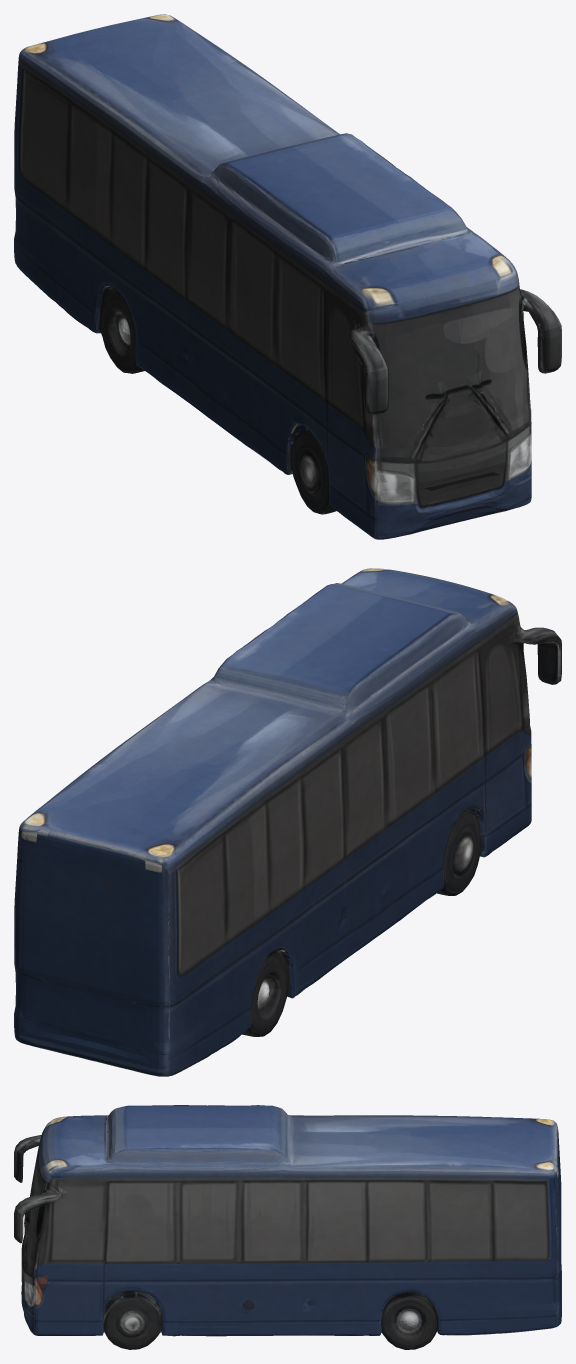
The model's file is retexture-buseta.glb.
The picture shows the model from 3 angles, top to bottom: view 1: azimuth 30°, elevation 25°; view 2: azimuth 150°, elevation 25°; view 3: azimuth 270°, elevation 25°; orthographic projection. The views are drawn at different scales.
Parts seen in each view (by area): view 1: mesh_uv.obj; view 2: mesh_uv.obj; view 3: mesh_uv.obj.
Part boxes in pixels (x1,y1,x2,y2): mesh_uv.obj: (14, 14, 561, 539); mesh_uv.obj: (14, 568, 561, 1076); mesh_uv.obj: (14, 1105, 561, 1349).
Size of the model in its own units: 0.5379 by 0.7205 by 1.8.
1 material, 1 textured.
